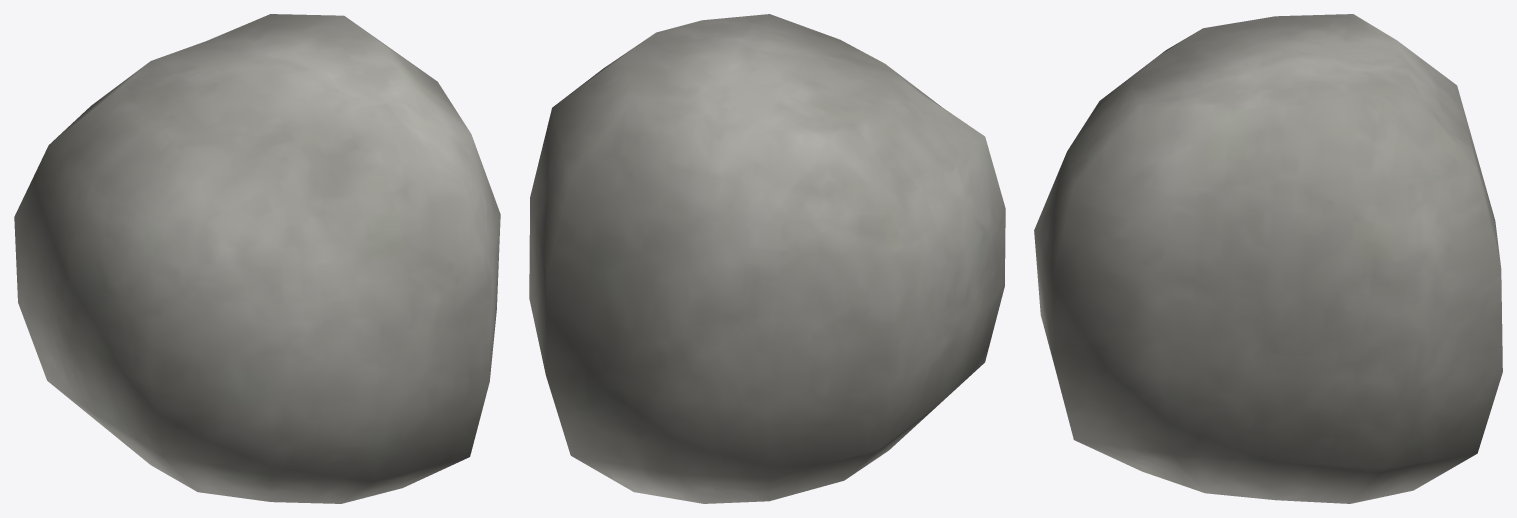
The model's file is pebble_06.glb.
3 renders of one model, left to right at view 1: azimuth 30°, elevation 25°; view 2: azimuth 150°, elevation 25°; view 3: azimuth 270°, elevation 25°, orthographic.
Visible parts, largest first — view 1: pebble_06; view 2: pebble_06; view 3: pebble_06.
Boxes of the visible parts, <box> form: pebble_06: <box>14,14,500,503</box>; pebble_06: <box>529,14,1005,503</box>; pebble_06: <box>1034,14,1502,503</box>.
Size of the model in its own units: 2.02 by 2 by 2.08.
Materials: 1 (1 with a texture image).
